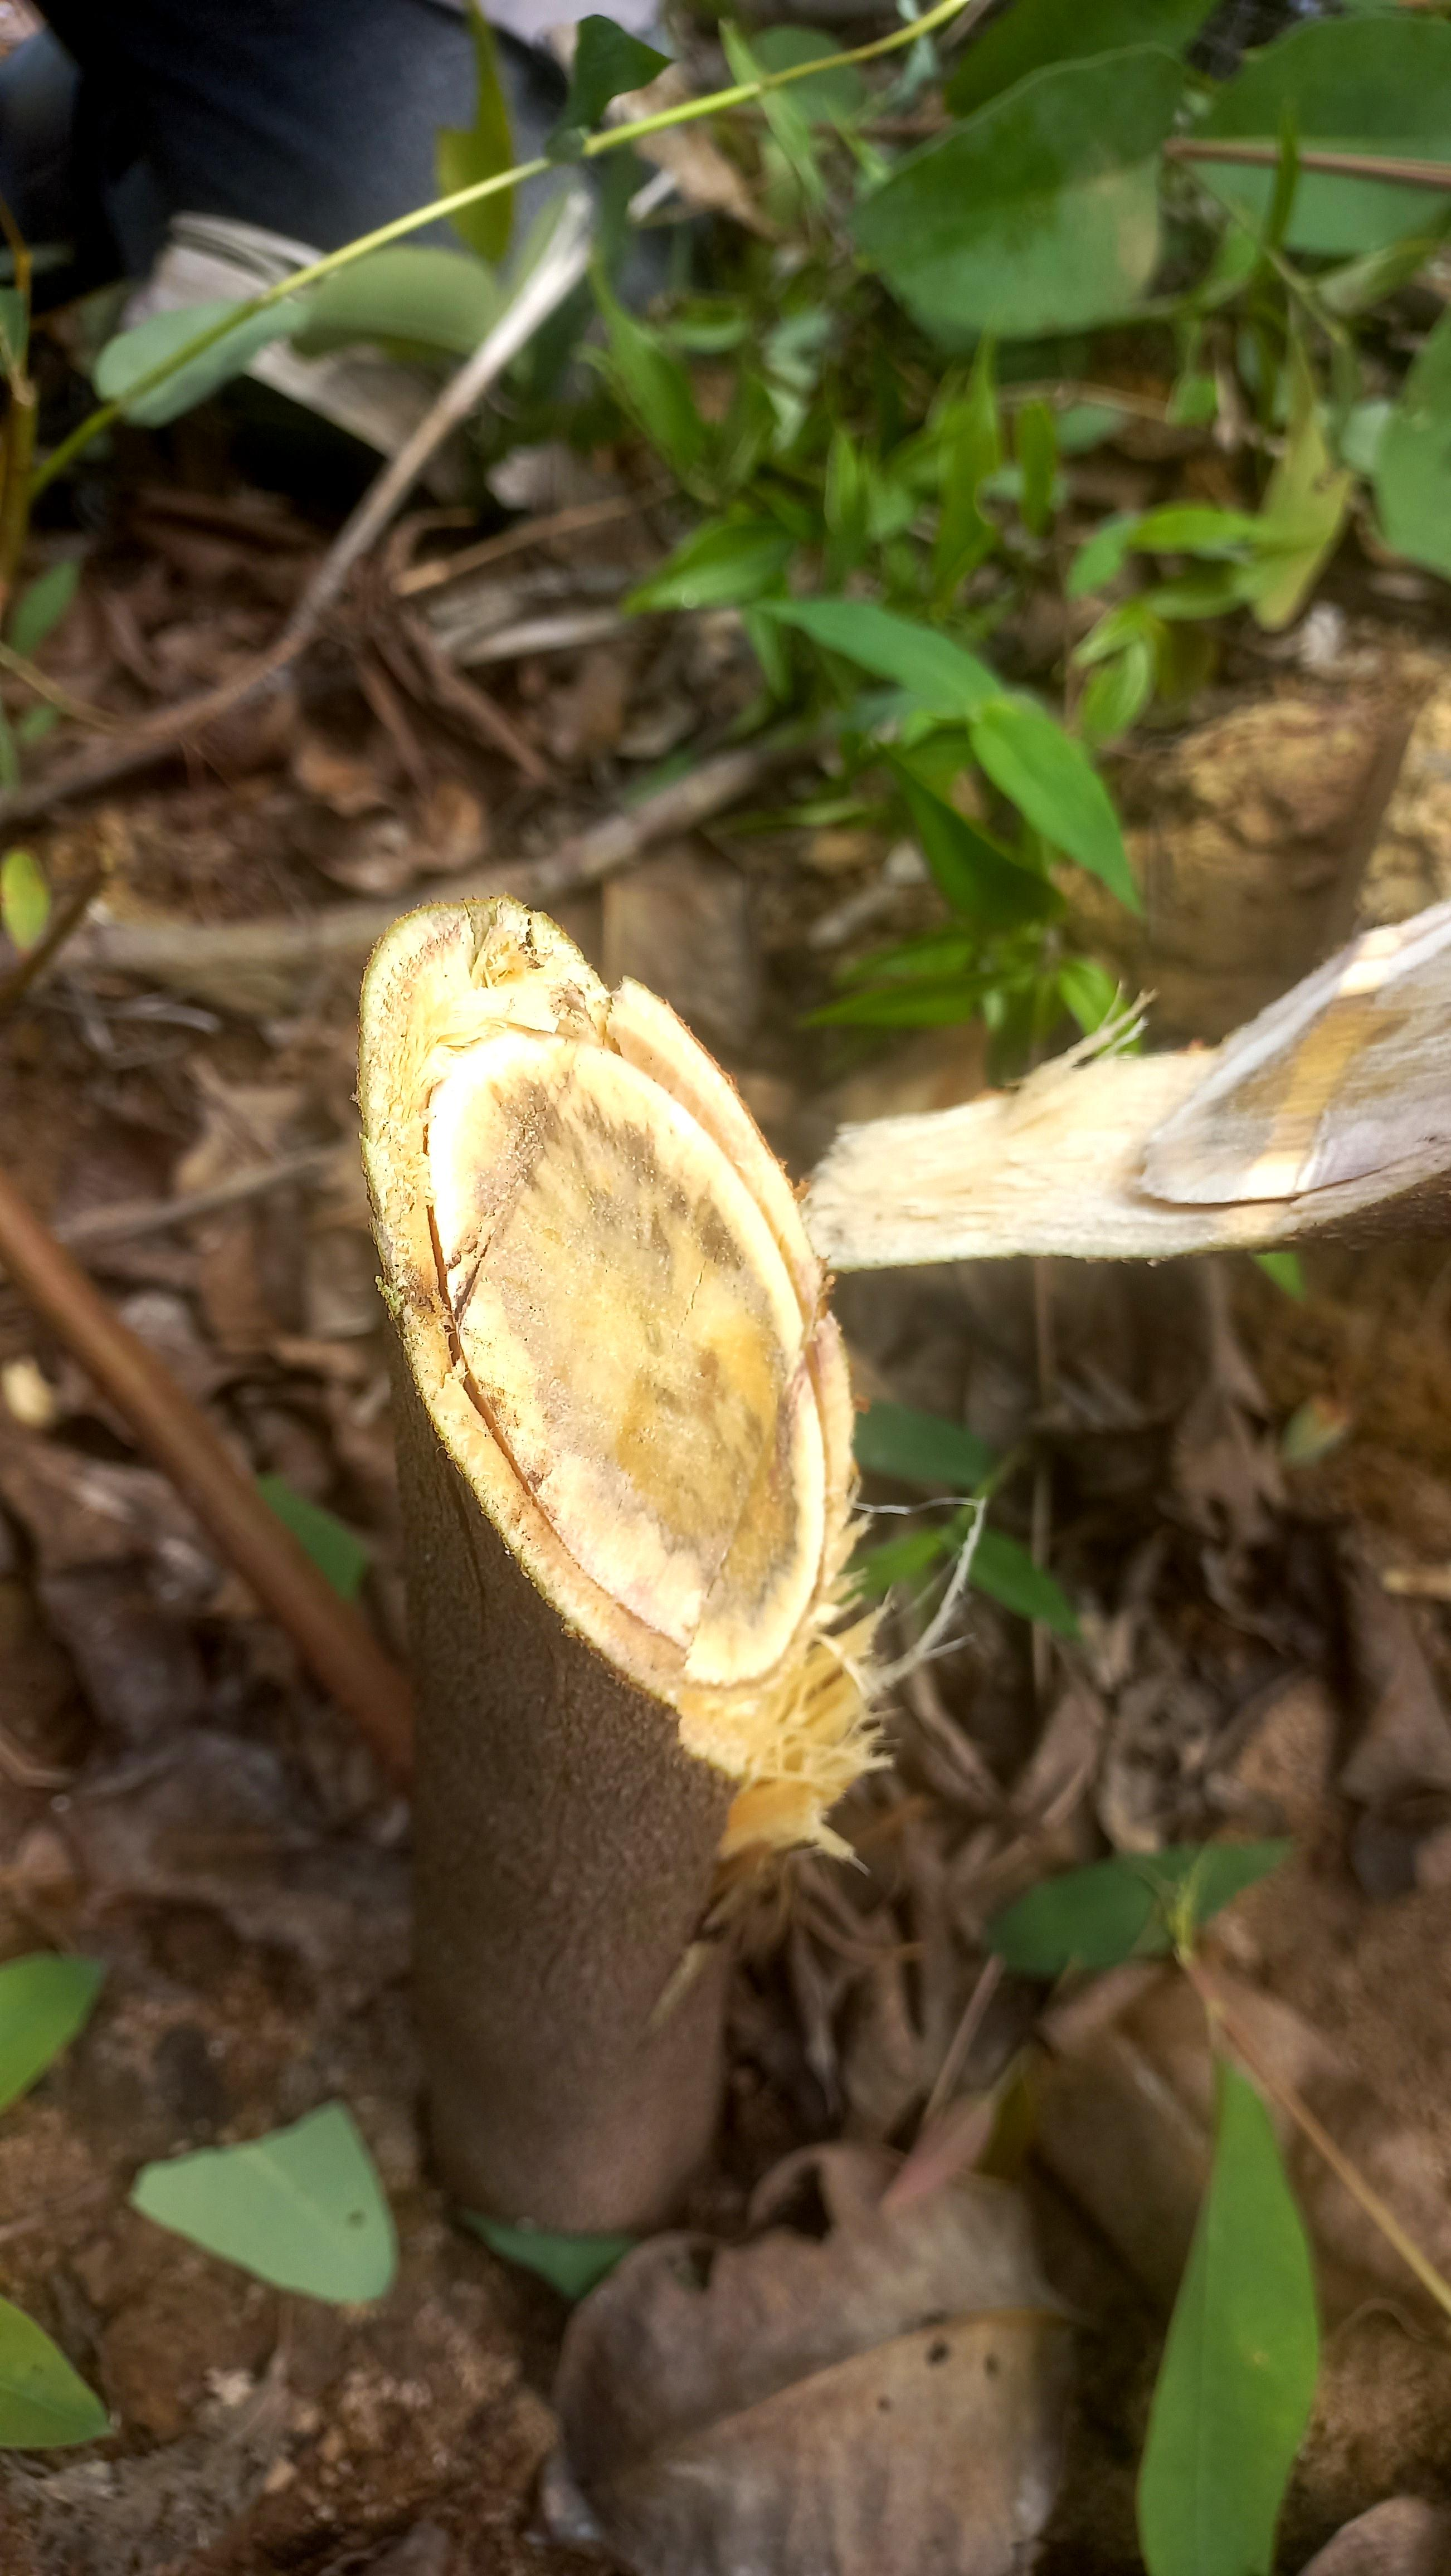Ralstonia: (470, 1071, 613, 1550), (660, 1185, 798, 1622), (1211, 965, 1451, 1164)
